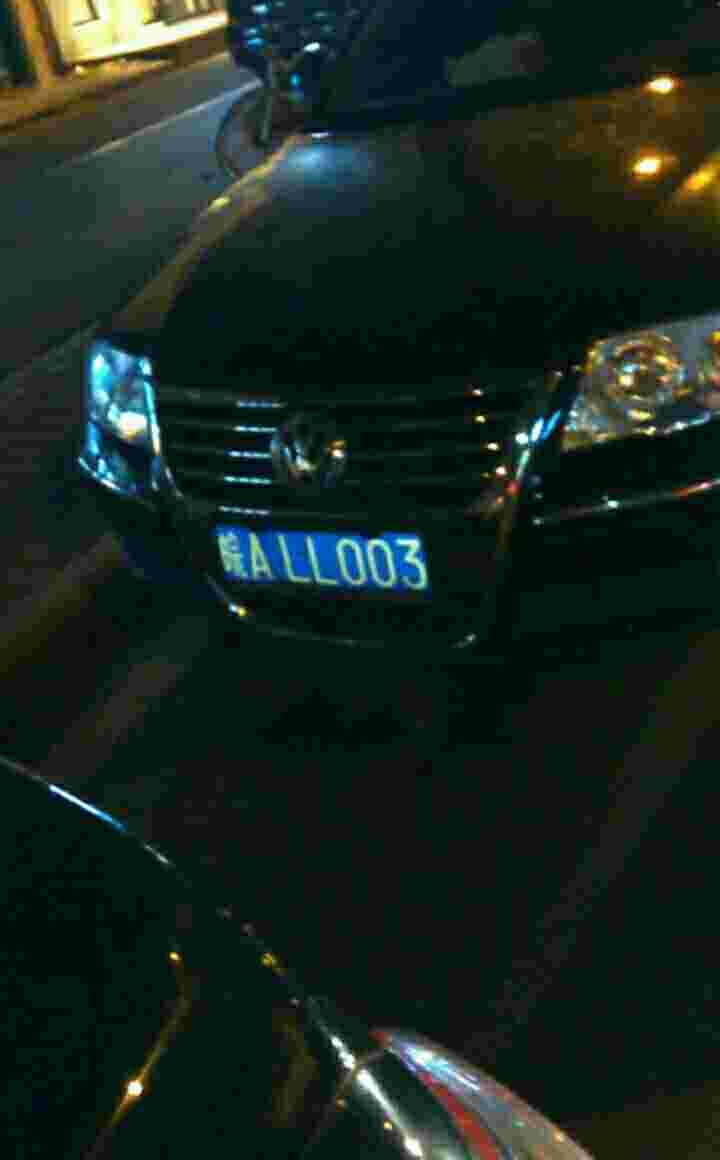license_plate: (214, 525, 431, 592)
